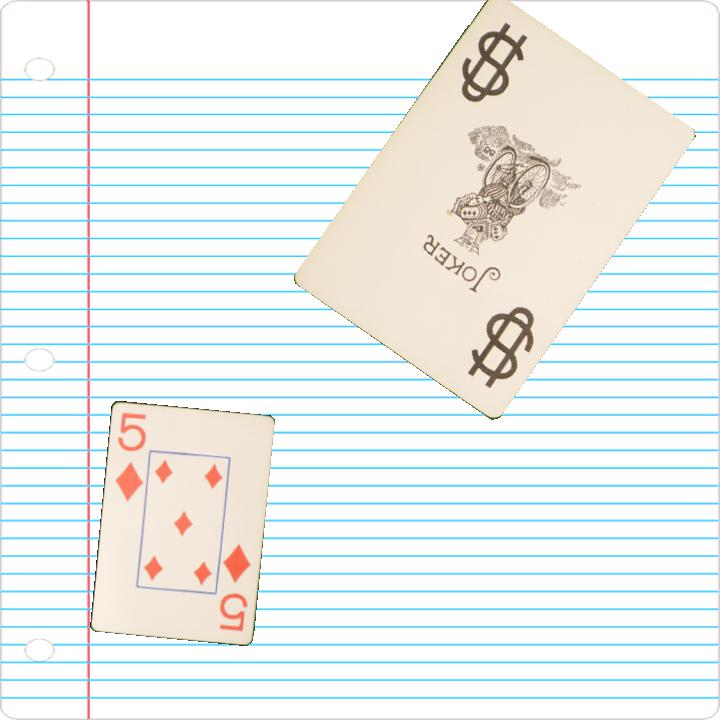5d: (111, 408, 149, 504), (215, 540, 253, 634)
JK: (457, 19, 531, 107), (477, 309, 532, 378)
